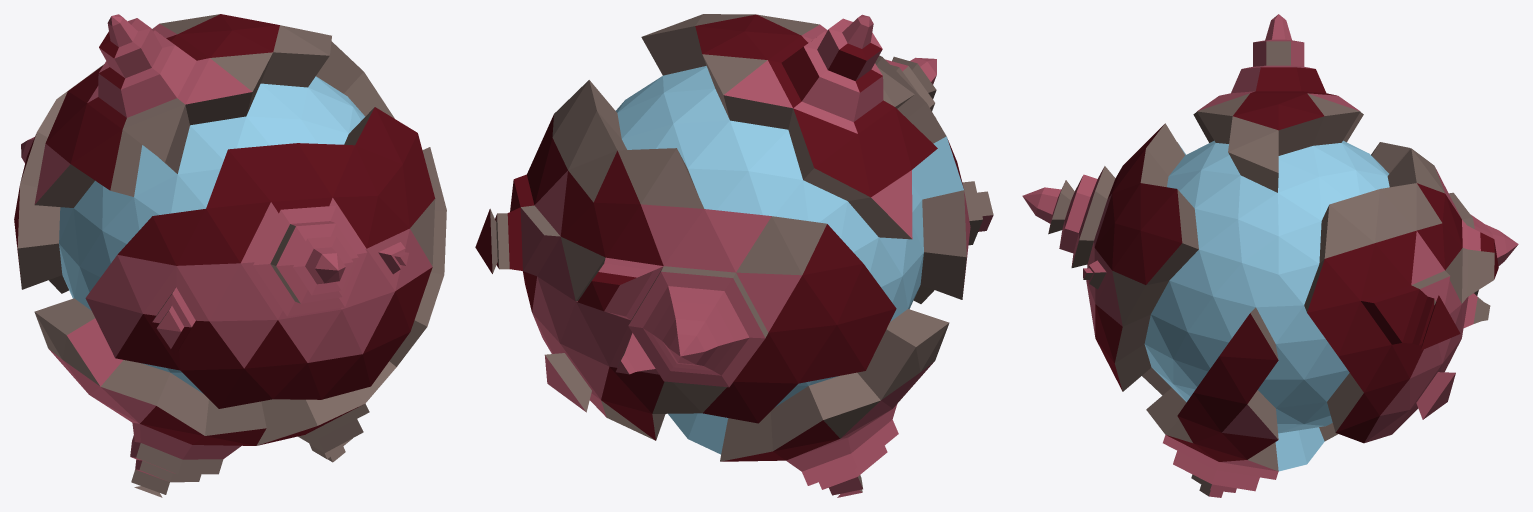
Rendered from Planeta_7.fbx.
3 views of the same model, side by side, from view 1: azimuth 30°, elevation 25°; view 2: azimuth 150°, elevation 25°; view 3: azimuth 270°, elevation 25° (orthographic). The views are drawn at different scales.
Parts seen in each view (by area): view 1: Icosphere.006; view 2: Icosphere.006; view 3: Icosphere.006.
Part boxes in pixels (x1=…): Icosphere.006: x1=14, y1=14, x2=446, y2=497; Icosphere.006: x1=475, y1=14, x2=993, y2=497; Icosphere.006: x1=1022, y1=14, x2=1518, y2=497.
Bounding box in the file's own units: 1957 × 2415 × 2576.
